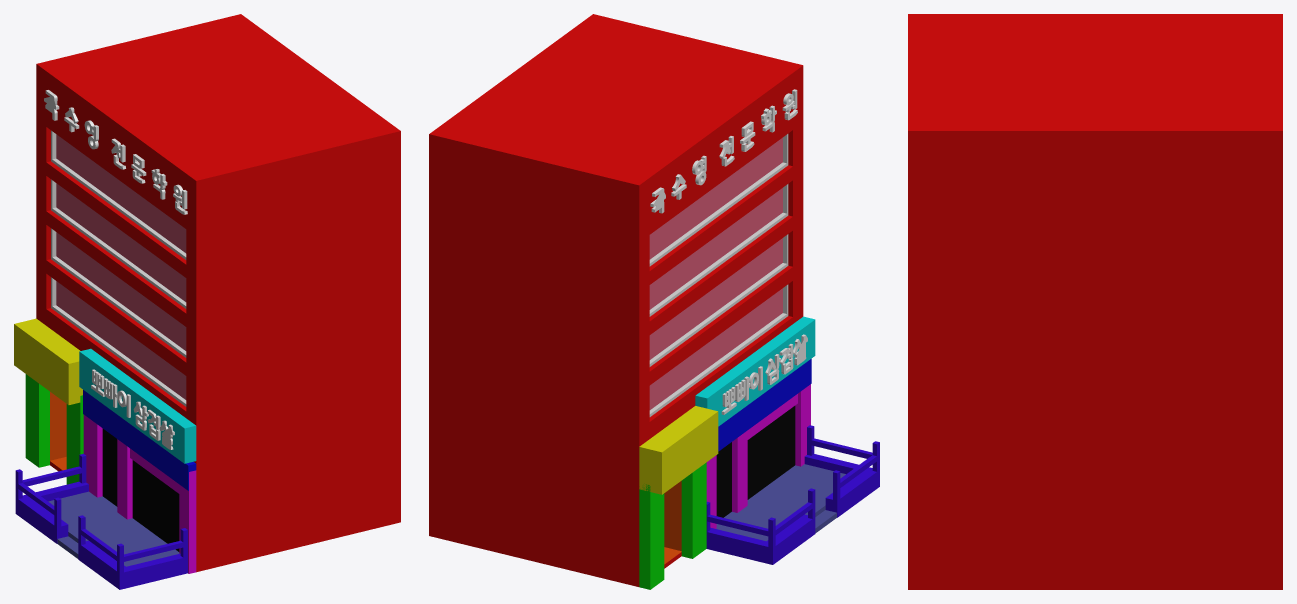
File: Building_11.fbx
3 views of the same model, side by side, from view 1: azimuth 30°, elevation 25°; view 2: azimuth 150°, elevation 25°; view 3: azimuth 270°, elevation 25° (orthographic). The views are drawn at different scales.
Visible parts, largest first — view 1: Building_11, typeMesh33, typeMesh32; view 2: Building_11, typeMesh33, typeMesh32; view 3: Building_11.
Boxes of the visible parts, x1,y1,x2,y2 form: Building_11: (14,14,400,589); typeMesh33: (44,90,187,214); typeMesh32: (91,369,174,449); Building_11: (429,14,879,589); typeMesh33: (650,89,797,213); typeMesh32: (721,334,807,414); Building_11: (908,14,1282,589).
Bounding box in the file's own units: 154 × 205 × 152.
